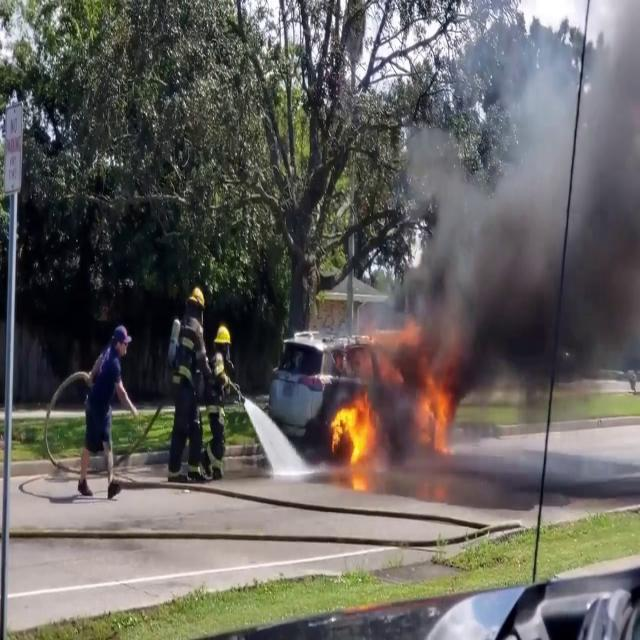Fire: (327, 379, 379, 486), (416, 371, 456, 456)
Smoke: (367, 2, 640, 408)
